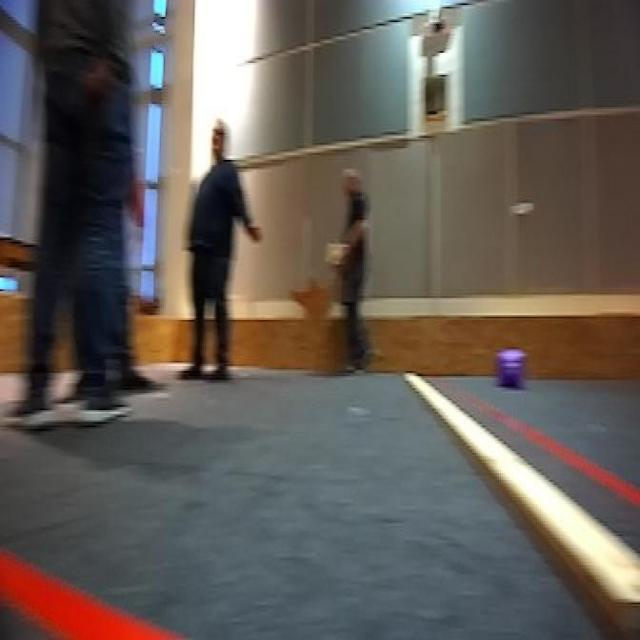frc_cube: (497, 347, 527, 395)
